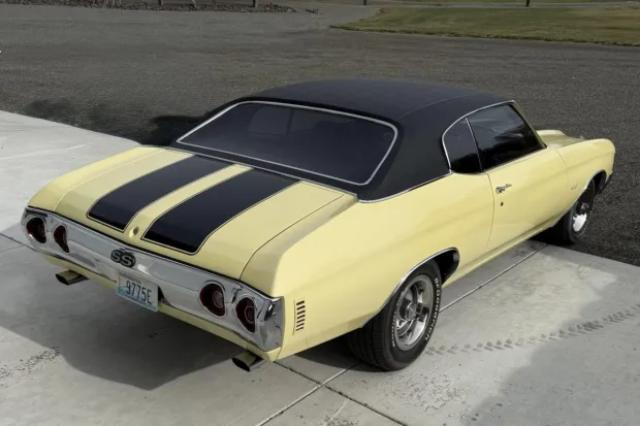chevelle-1972: (21, 79, 615, 371)
